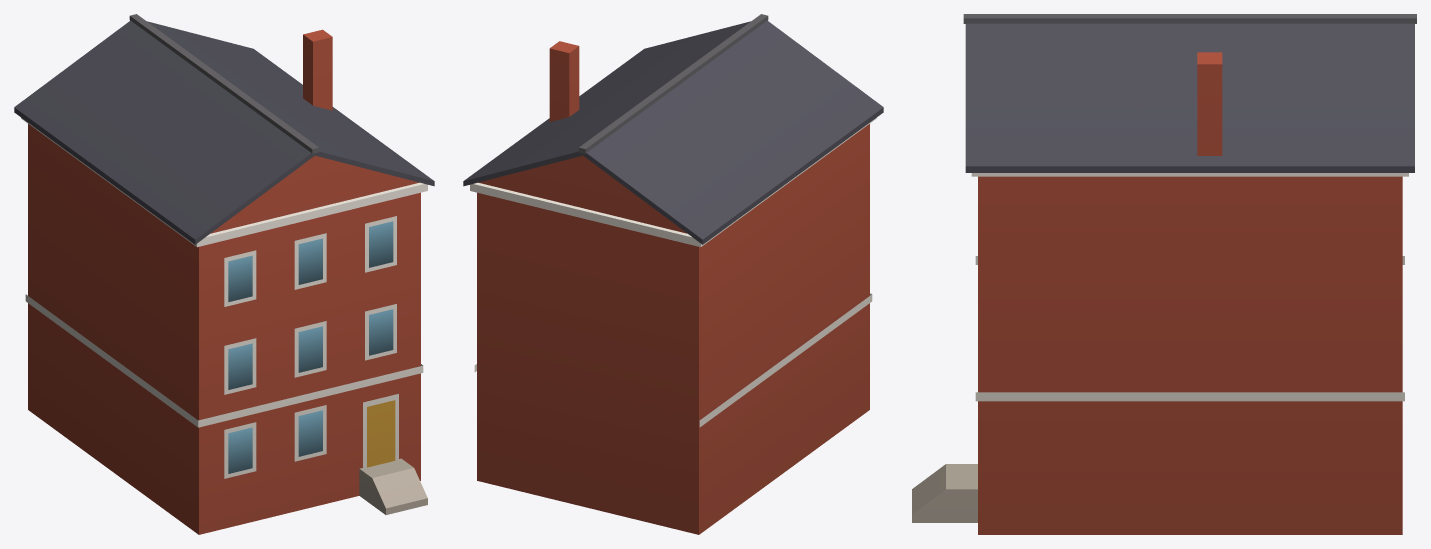
The model's file is lane_e4_far.glb.
The picture shows the model from 3 angles, left to right: view 1: azimuth 30°, elevation 25°; view 2: azimuth 150°, elevation 25°; view 3: azimuth 270°, elevation 25°; orthographic projection. The views are drawn at different scales.
Visible parts, largest first — view 1: lane_e4_far; view 2: lane_e4_far; view 3: lane_e4_far.
Part boxes in pixels (left/top/right/bottom): lane_e4_far: left=14, top=14, right=434, bottom=534; lane_e4_far: left=463, top=14, right=883, bottom=534; lane_e4_far: left=912, top=14, right=1416, bottom=534.
Bounding box in the file's own units: 9.7 × 14.68 × 14.26.
1 material, 1 textured.
